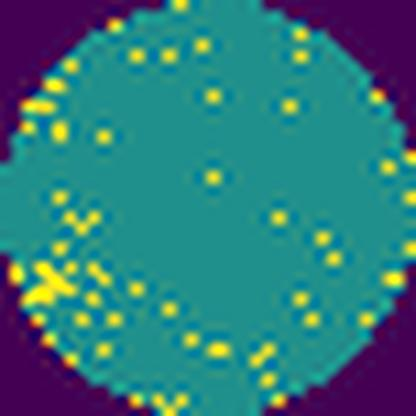Loc: (26, 260, 78, 309)
